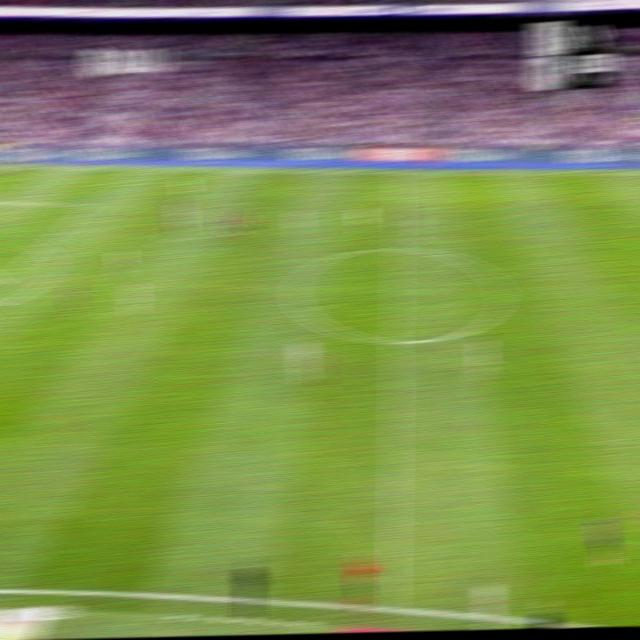bigarea_top_inner: (81, 198, 98, 211)
corner: (0, 162, 18, 172)
halfcircle_bottom: (385, 327, 406, 355)
halfcircle_top: (387, 237, 408, 259)
midline_bottom_intersection: (381, 591, 405, 619)
midline_top_intersection: (390, 165, 406, 179)
top_arc_area_intersection: (33, 239, 51, 253)
